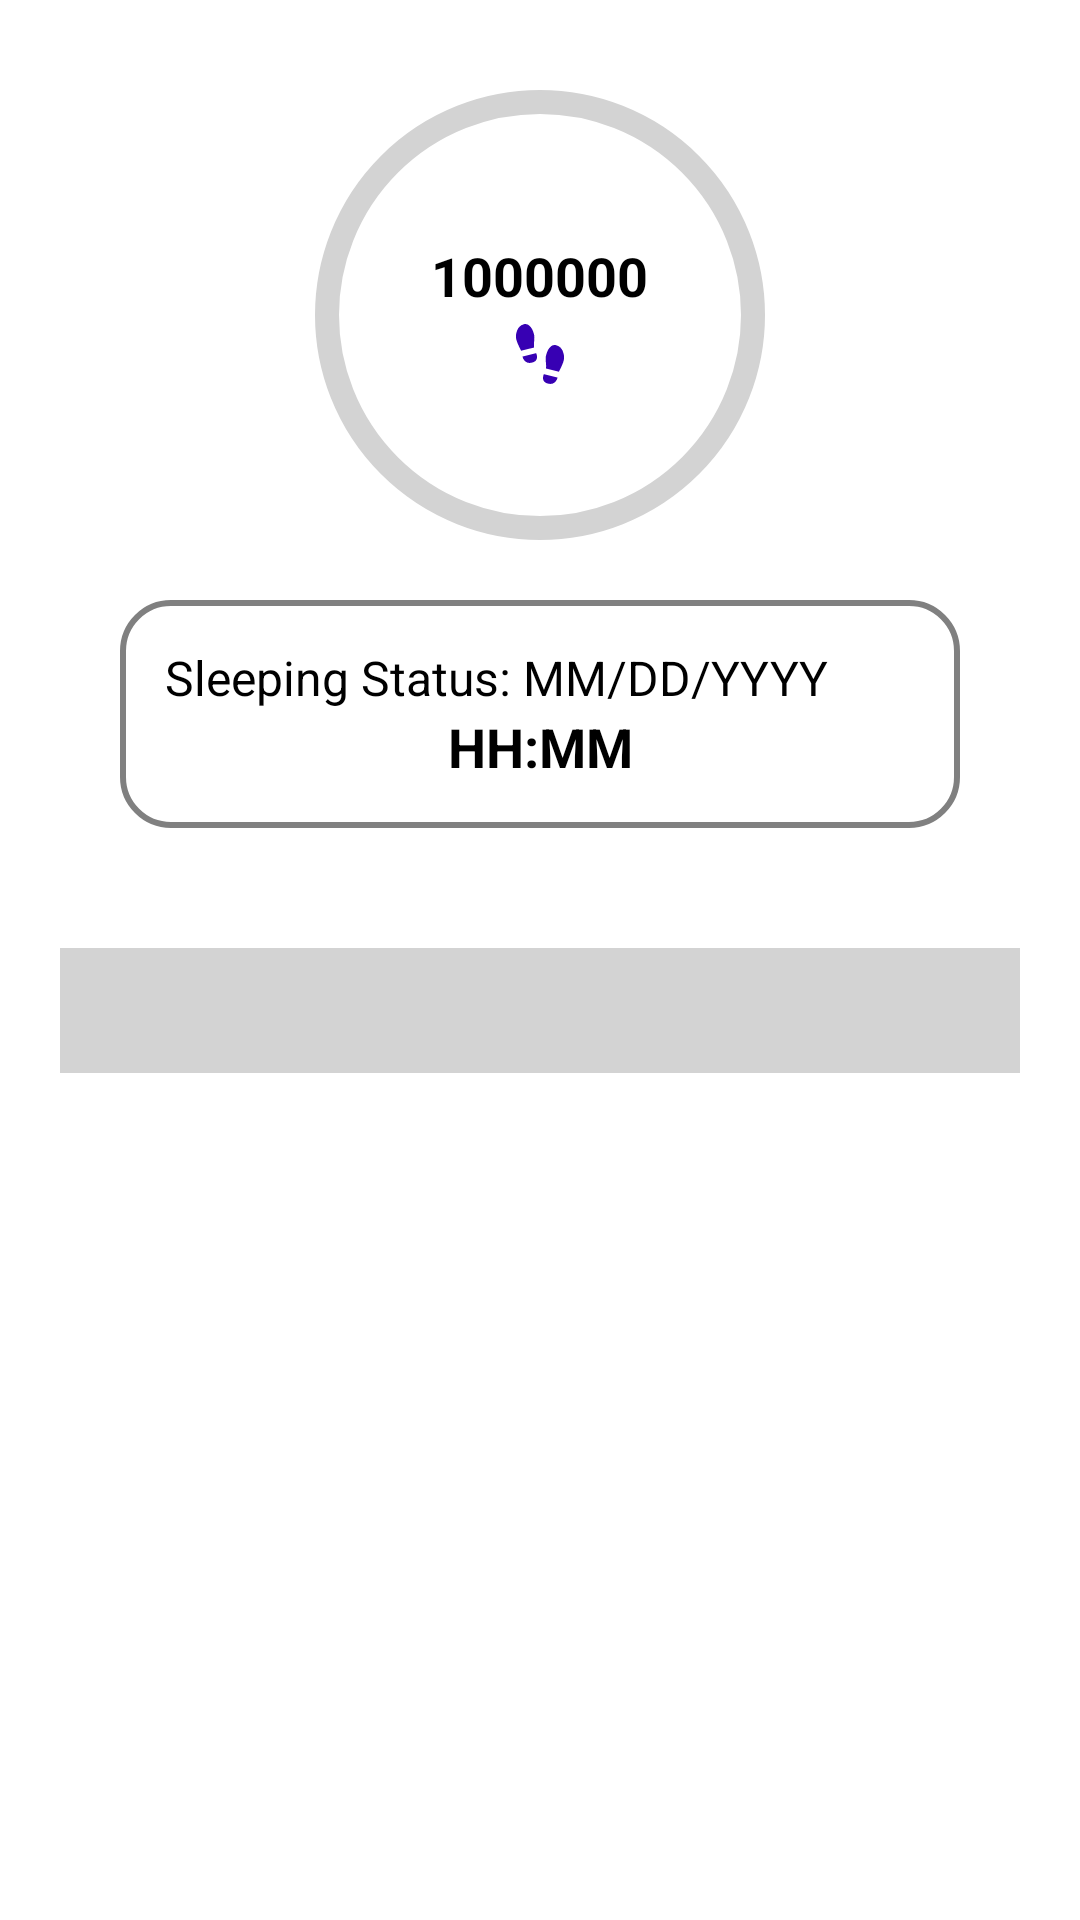

Named icons in this screenshot (1080 x 1920) and their centers, point (x, y):
shoe print: point (540, 354)
